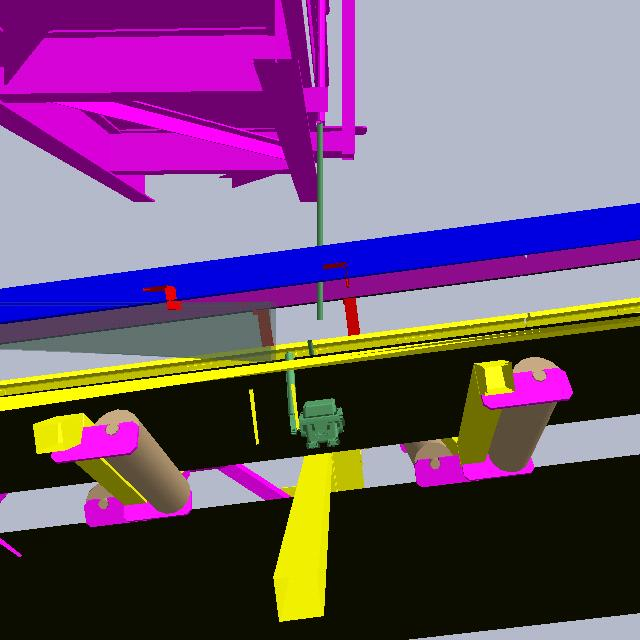Soporte: (312, 1, 358, 164), (312, 78, 325, 325)
